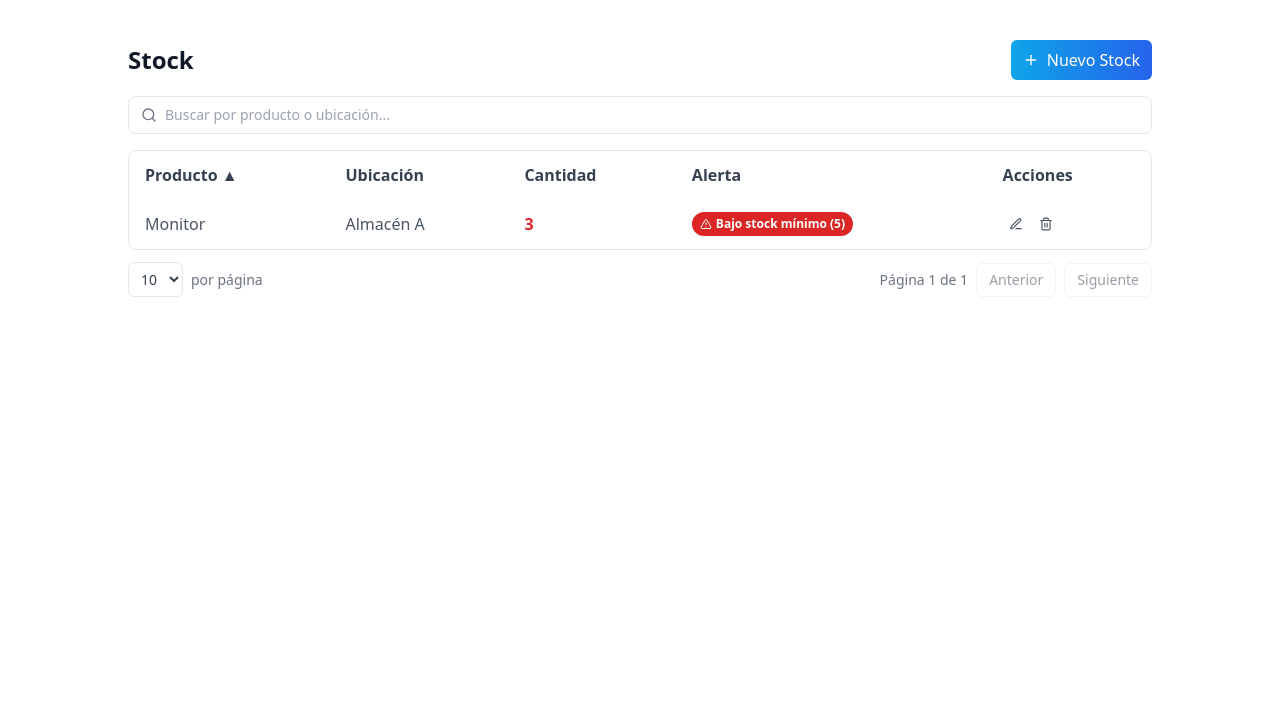
StockPage › opens create modal on button click
This screenshot has width=1280, height=720.
Expected: the heading "Stock" is shown, [128,44,194,76]
Click the button labelled "Nuevo Stock": click(1081, 60) [1011,40,1152,80]
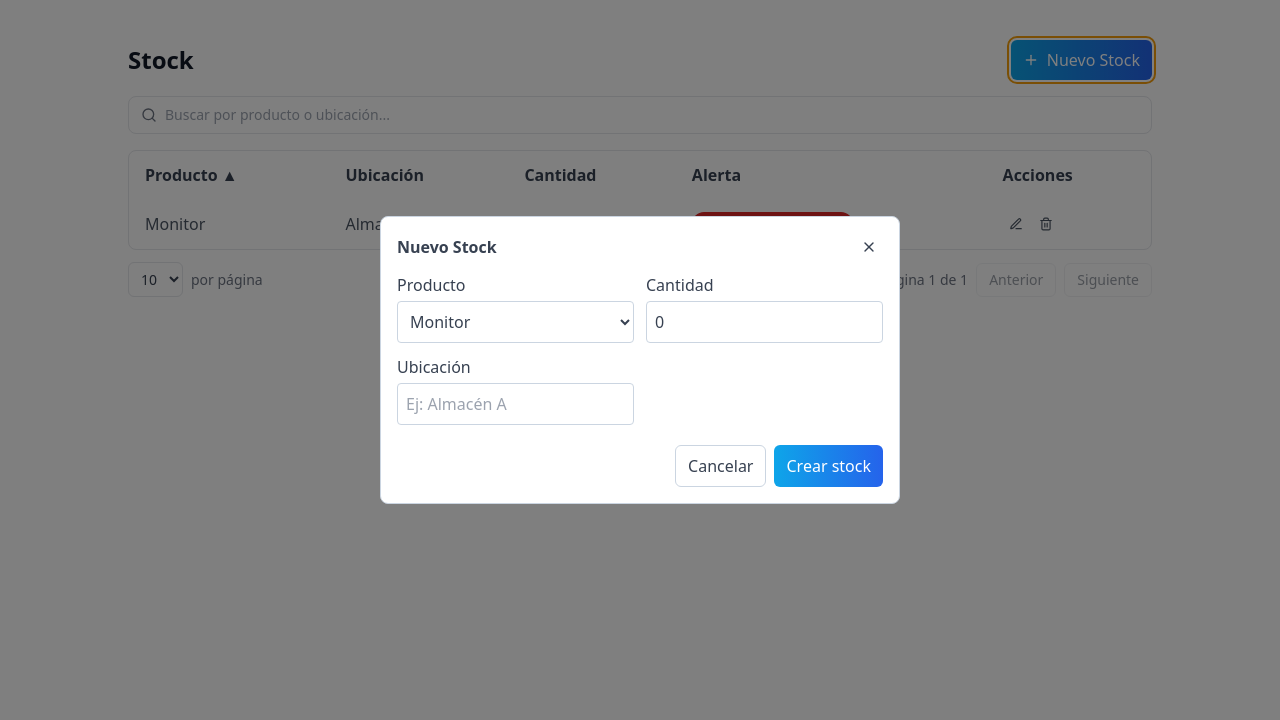
Now the button "Crear stock" is shown, box [774,445,883,487]
Now the button "Cancelar" is shown, box [675,445,766,487]
